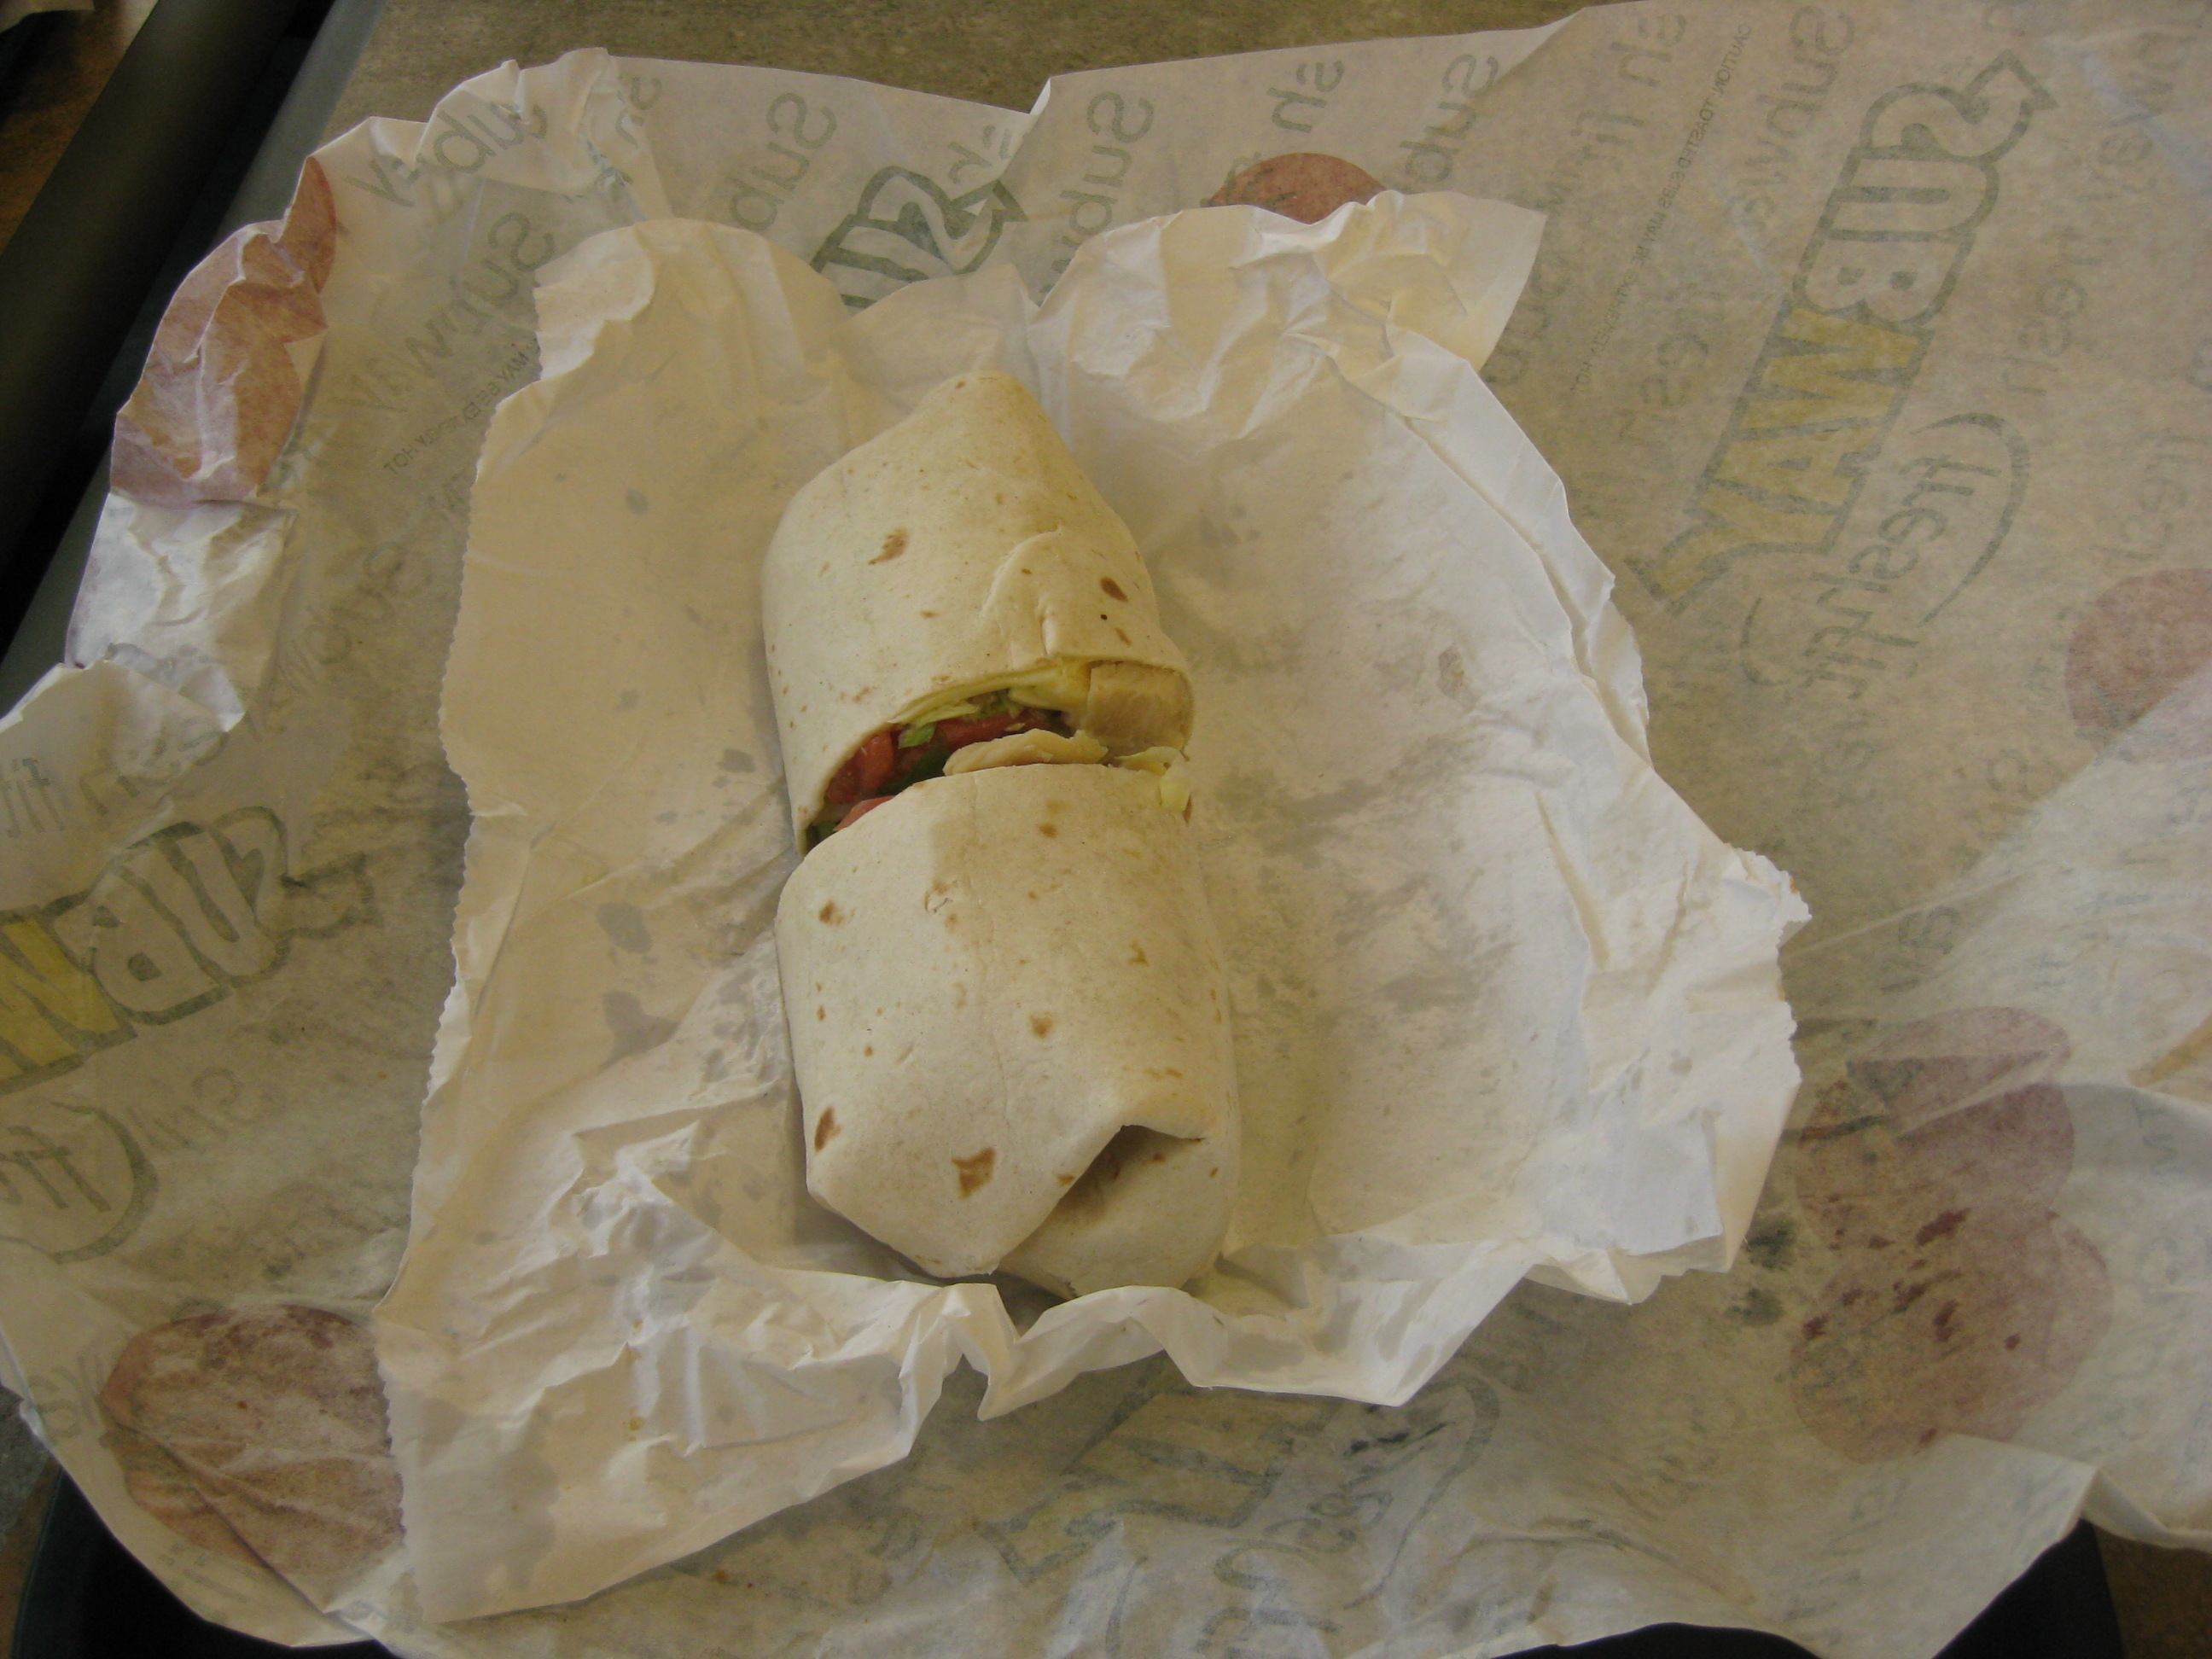burrito: (729, 346, 1258, 1283)
